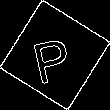P_N: (31, 26, 79, 84)
